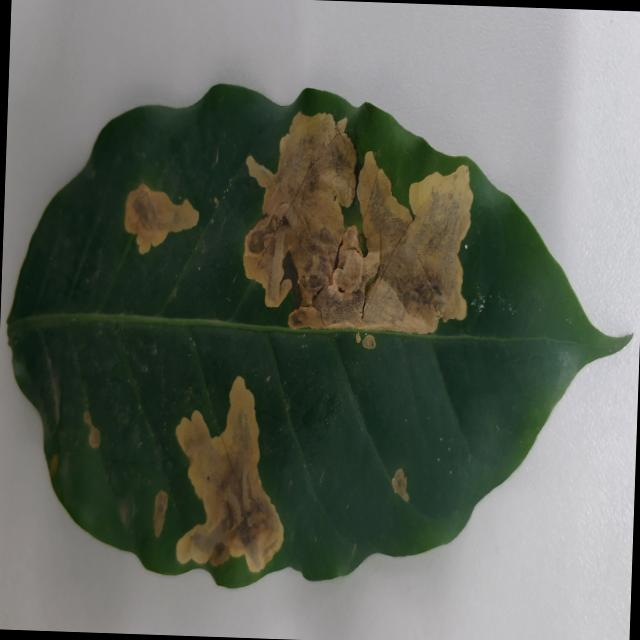KaratDaunKopi: (289, 150, 472, 333), (243, 112, 356, 306), (175, 376, 283, 572), (297, 225, 378, 327), (124, 183, 198, 253), (83, 410, 100, 448), (153, 490, 167, 536), (392, 468, 408, 501), (362, 334, 375, 348), (355, 332, 360, 342), (159, 511, 160, 512)
